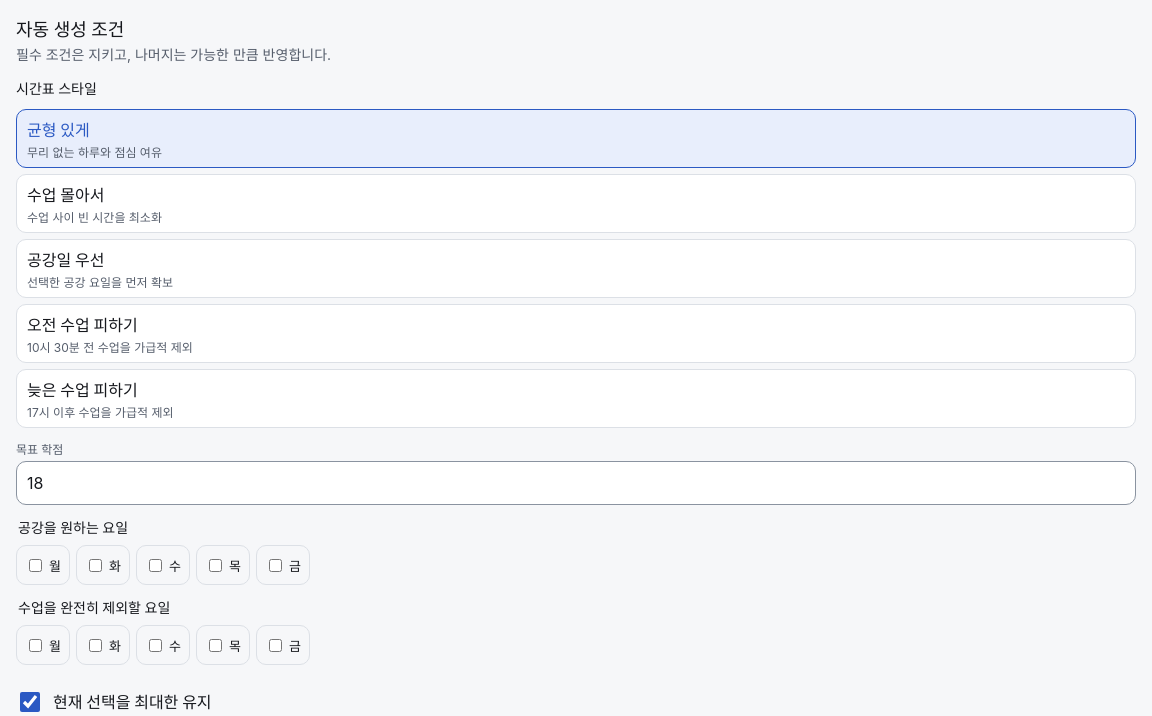
student-language preference presets › offers compact and free-day priorities as distinct practical choices
The width and height of the screenshot is (1152, 716).
Click the button "수업 몰아서 수업 사이 빈 시간을 최소화" at x=66, y=195, box [16,174,1136,233]
(page scrolled)
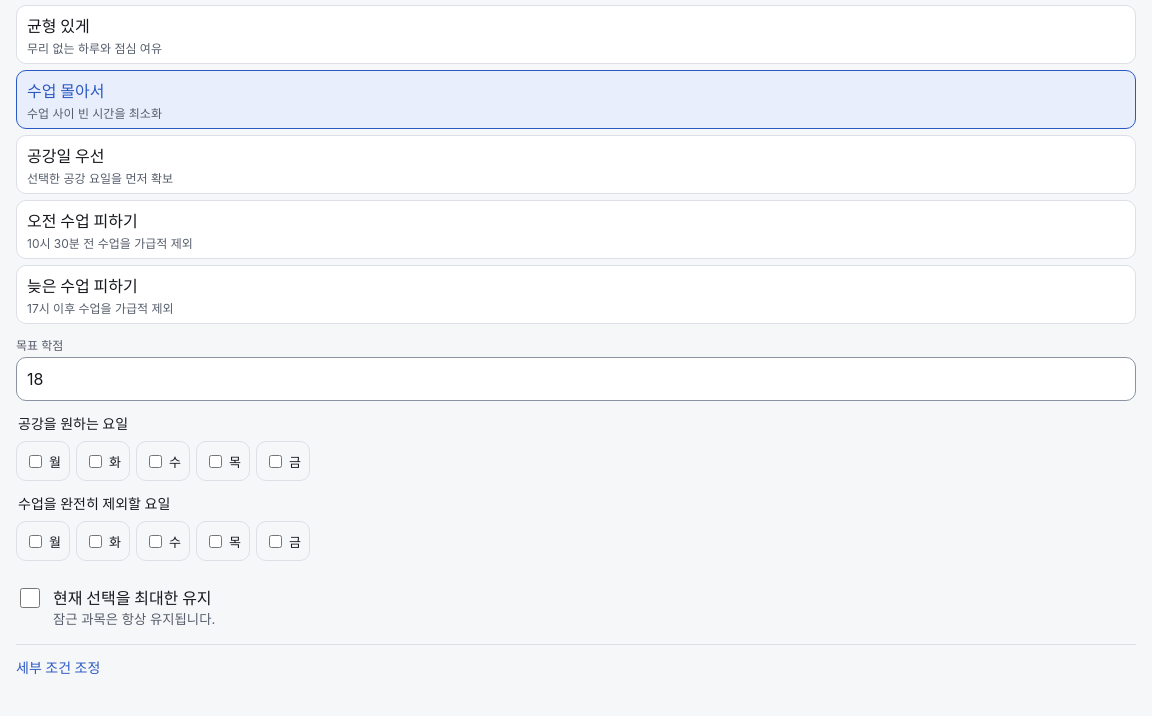
Click the heading "세부 조건 조정" at x=58, y=668, box [16,659,100,676]
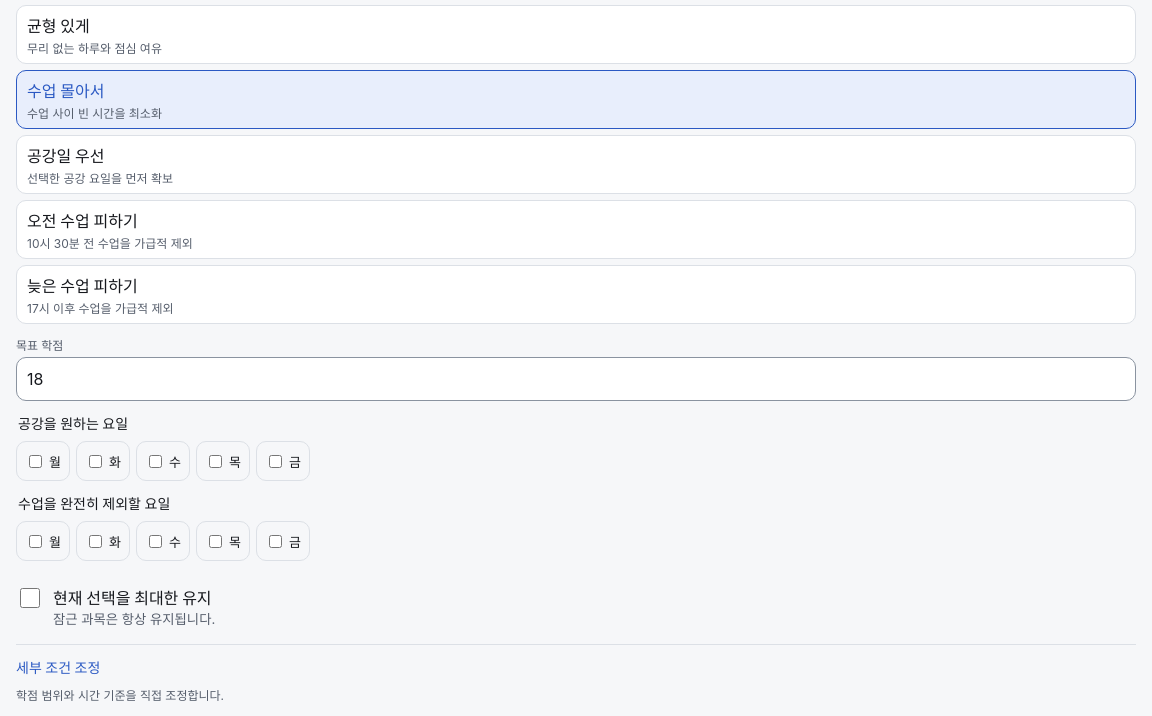
Check: the checkbox labelled "현재 선택을 최대한 유지 잠근 과목은 항상 유지됩니다." is not checked, box [20,588,40,608]
Click the button "공강일 우선 선택한 공강 요일을 먼저 확보" at x=66, y=156, box [16,135,1136,194]
(page scrolled)
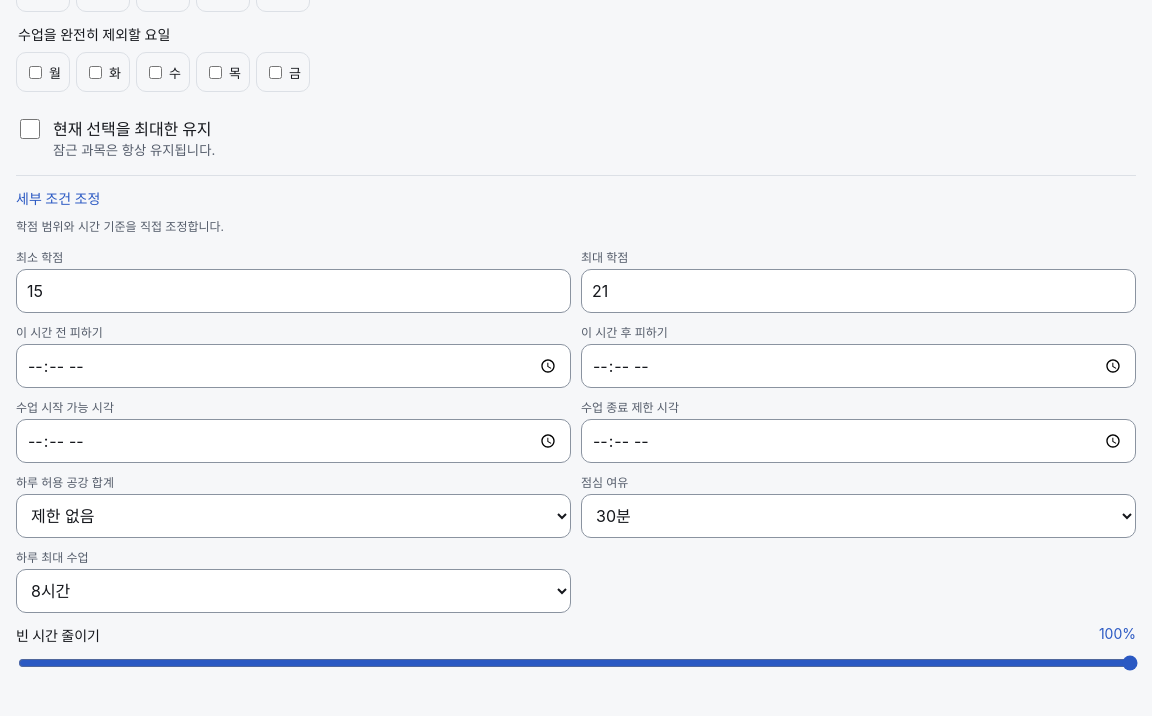
Check: the dropdown labelled "하루 최대 수업" shows "8시간", box [16,569,571,613]
